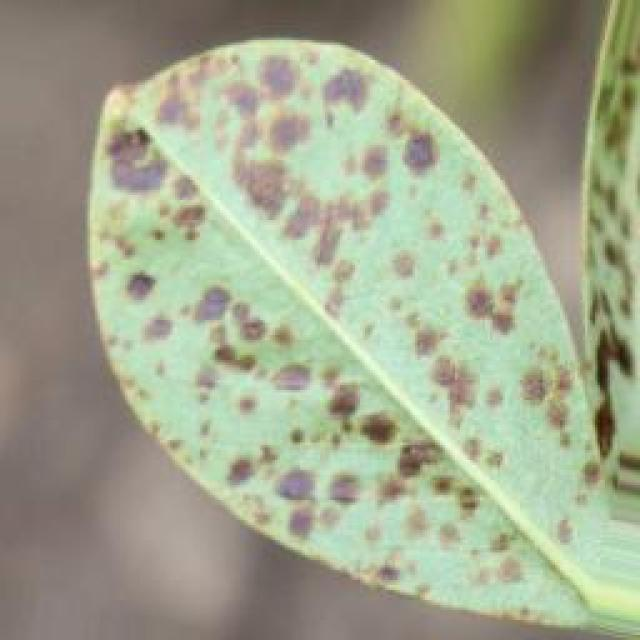Whitefly: (72, 18, 636, 640)
